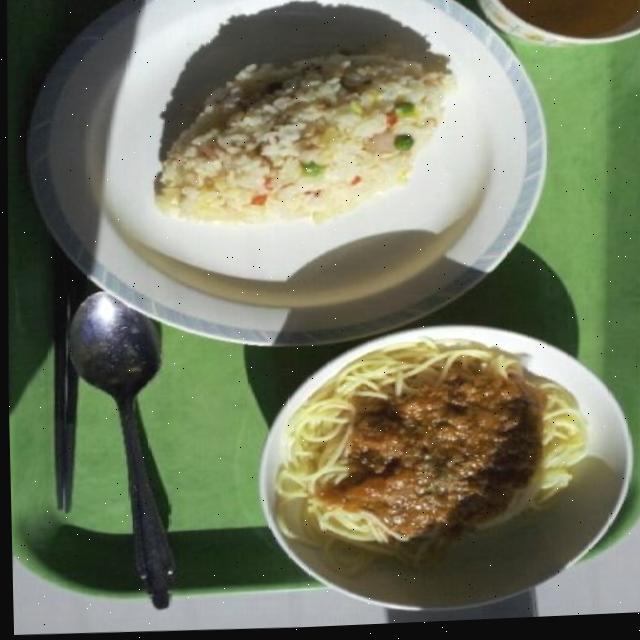米饭主食: (10, 0, 550, 362)
